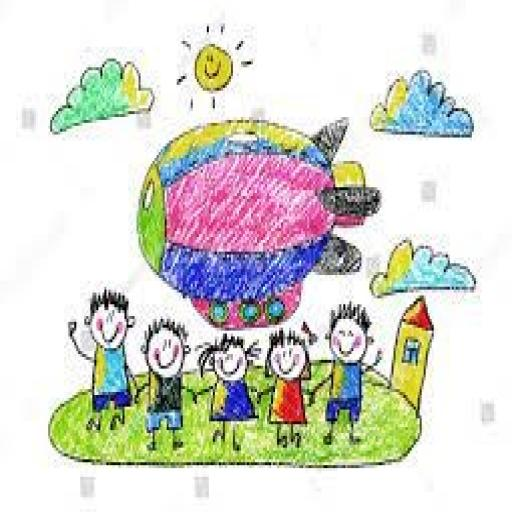person: (64, 286, 140, 444), (318, 297, 381, 454), (132, 314, 196, 456), (195, 328, 262, 456), (257, 328, 318, 456)
